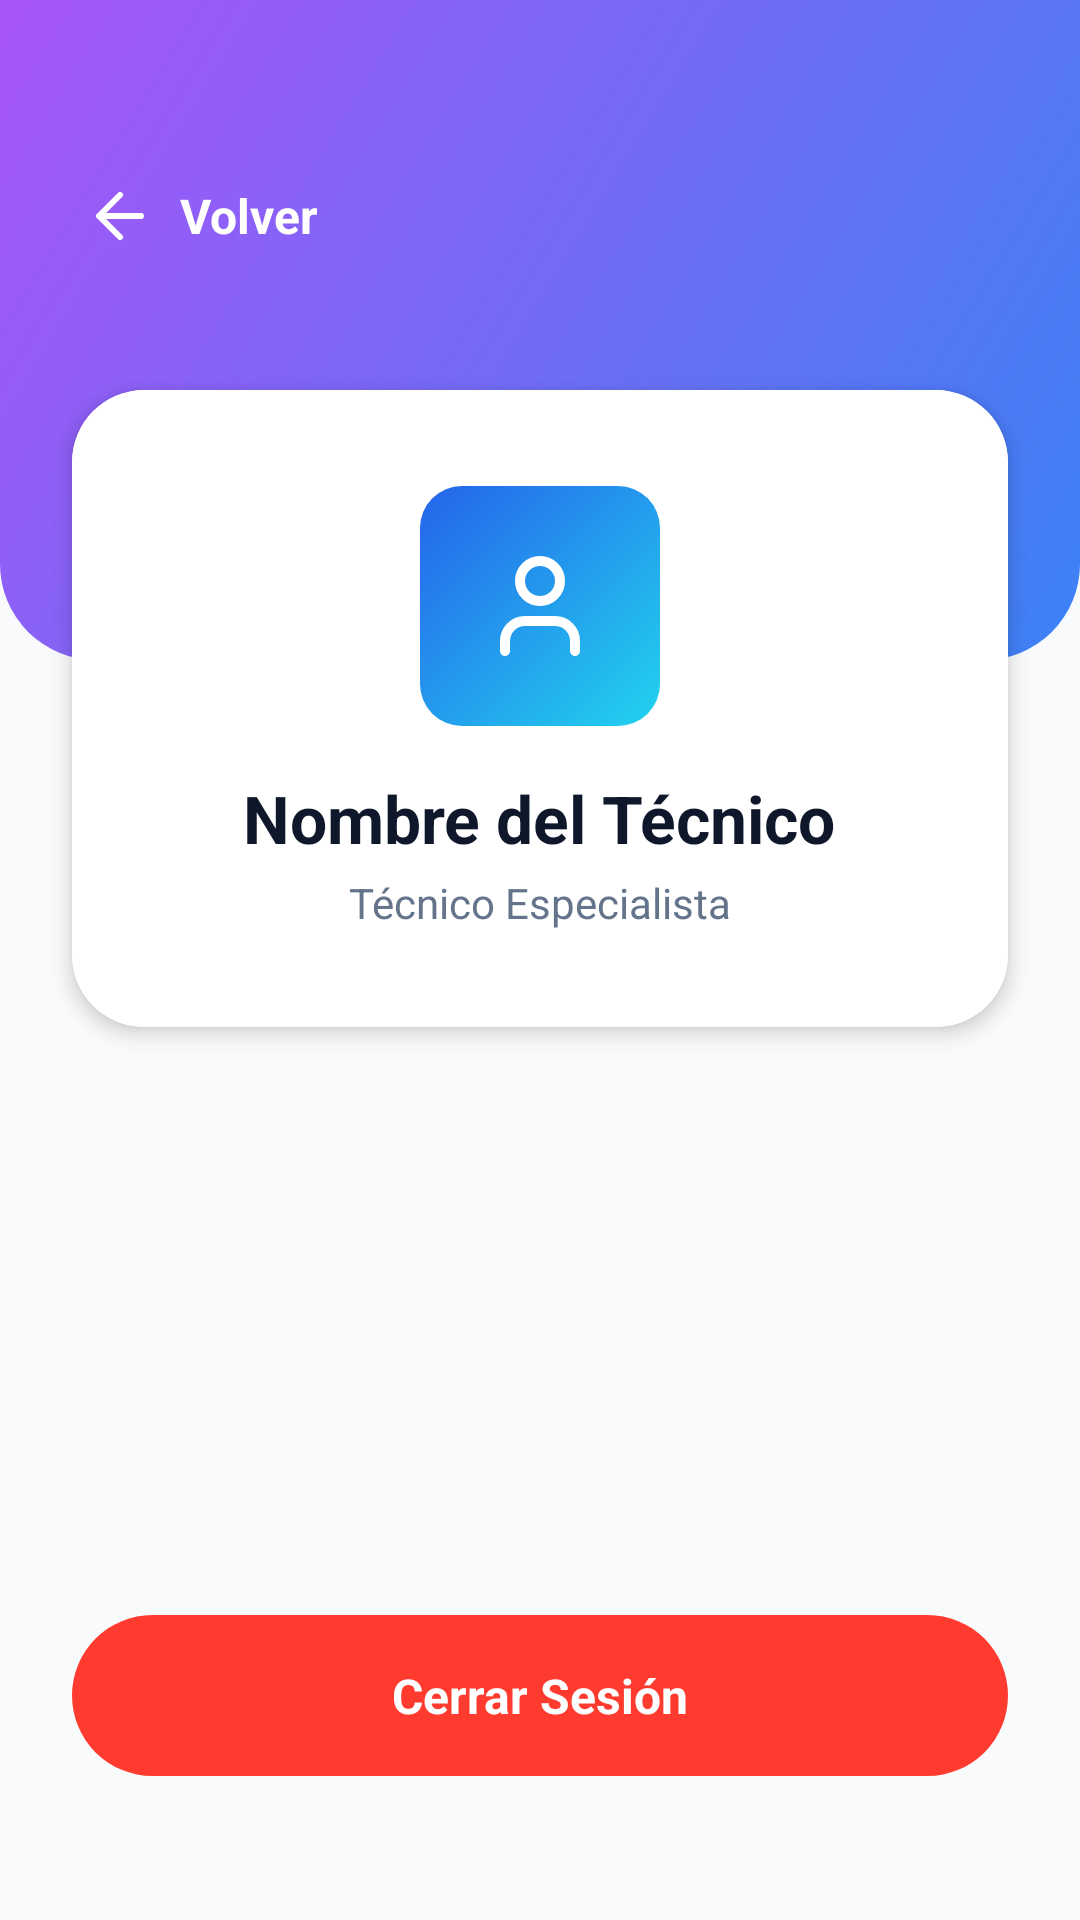

Named icons in this screenshot (1080px×1920px) and their centers, (x=x, y=y):
usuario: (x=540, y=606)
